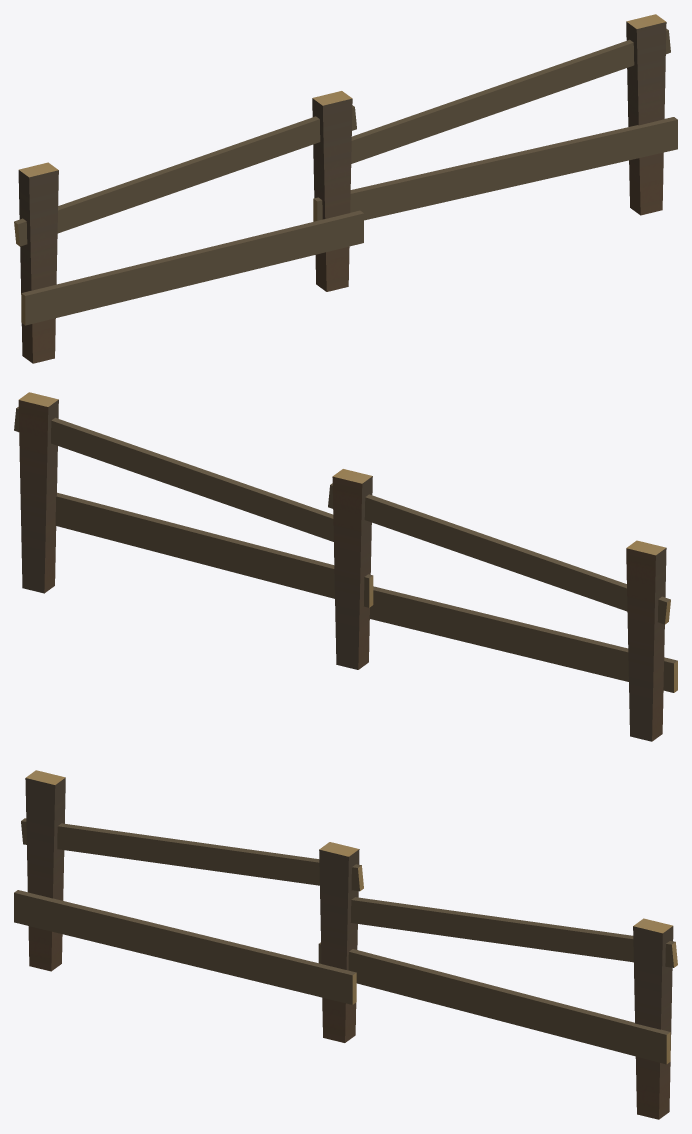
File: Fence_2_LOD1.fbx
3 renders of one model, top to bottom at view 1: azimuth 30°, elevation 25°; view 2: azimuth 150°, elevation 25°; view 3: azimuth 330°, elevation 25°, orthographic.
Visible parts, largest first — view 1: polySurface9744; view 2: polySurface9744; view 3: polySurface9744.
Part boxes in pixels (box(x1,y1,x2,y2)): polySurface9744: box(14, 14, 677, 363); polySurface9744: box(14, 392, 677, 741); polySurface9744: box(14, 770, 677, 1119).
Size of the model in its own units: 445 by 122 by 17.02.
